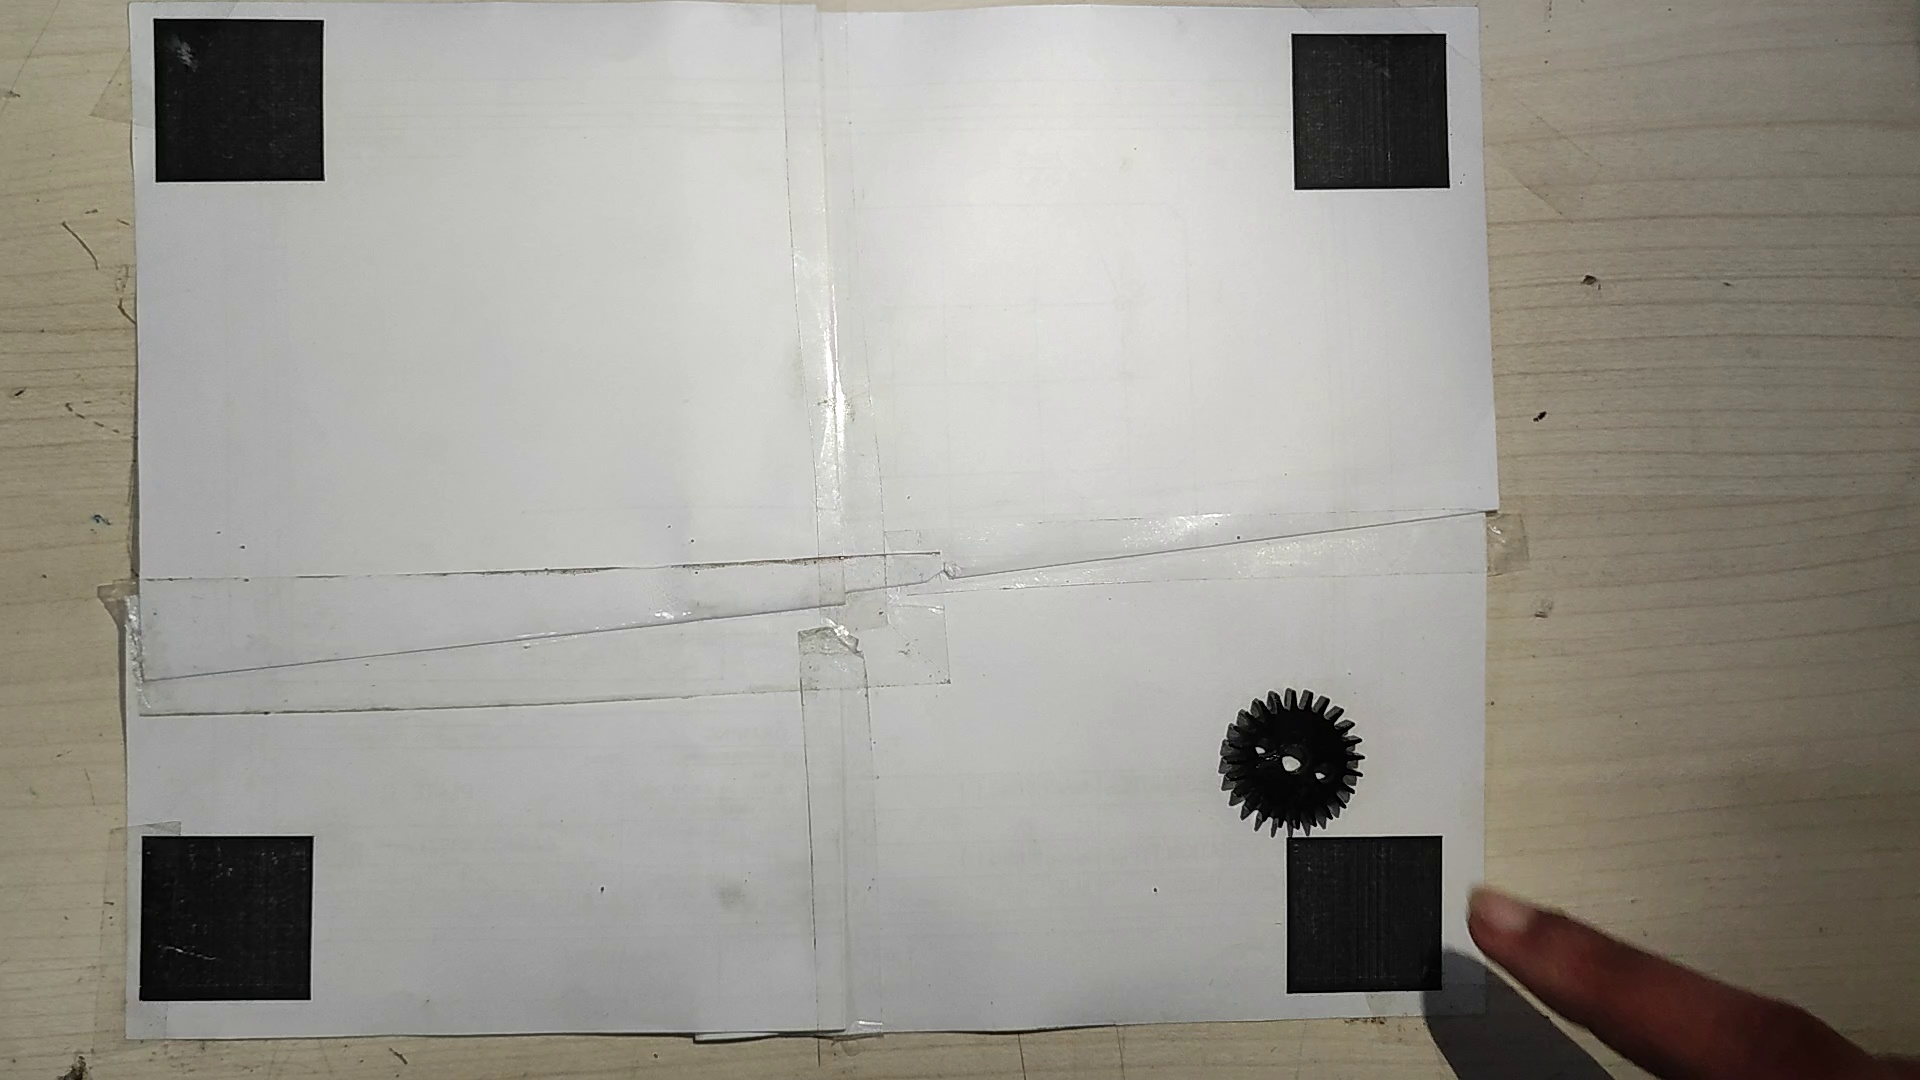Gear: (1215, 683, 1367, 841)
